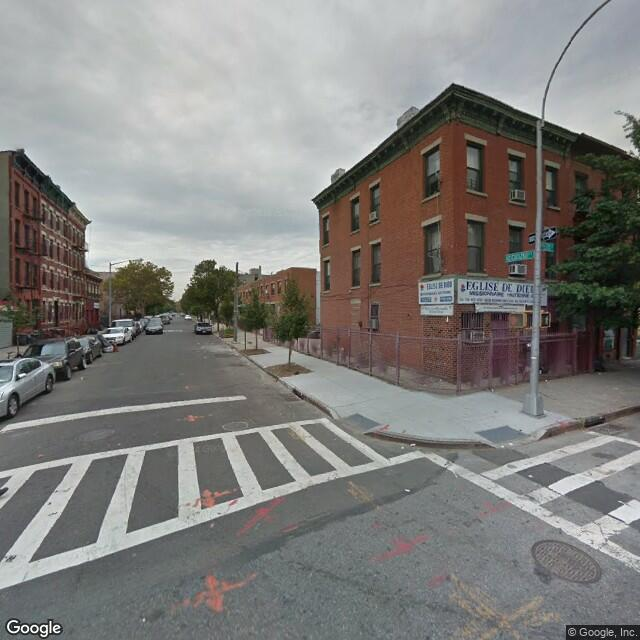litter: (392, 438, 424, 457), (403, 479, 426, 503), (66, 371, 93, 390)
